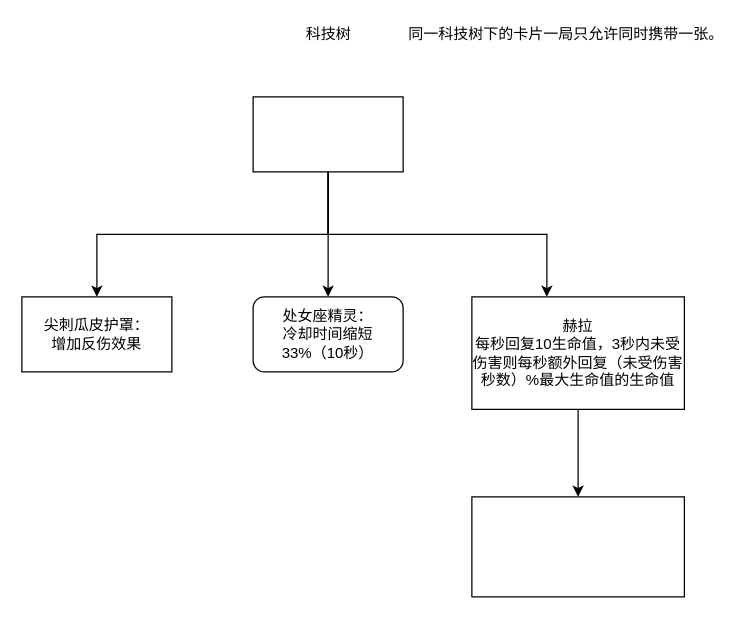
This 756x619 diagram has some shape labels left out. Here are the shapes that lost their labels. From the top down, the centre of each, then its label:
At pixel 327 134: "瓜皮护罩".
At pixel 577 546: "赫拉圣神 费用提高至300 为被包裹的卡片施加<庇护>。".
